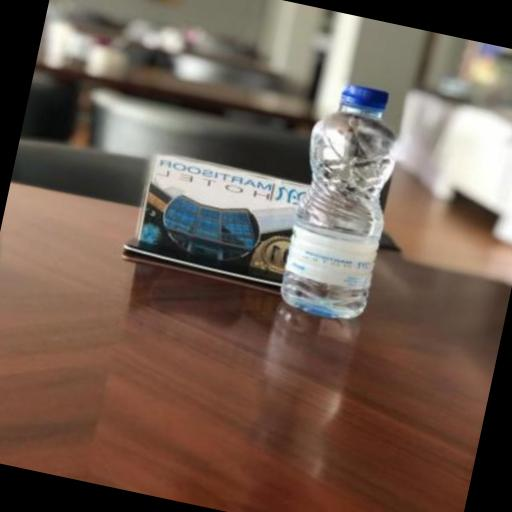Coca: (262, 70, 427, 341)
